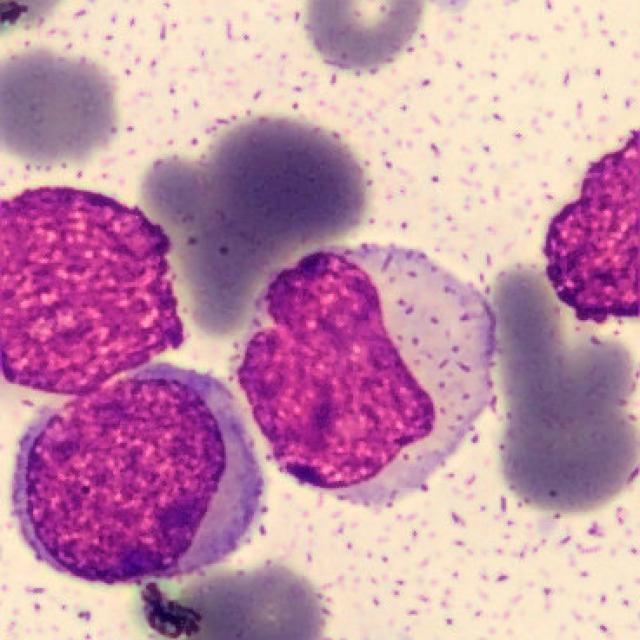Mieloblasto: (240, 251, 496, 498), (12, 367, 263, 586)
Restos celulares: (2, 187, 186, 398), (544, 130, 640, 325)
